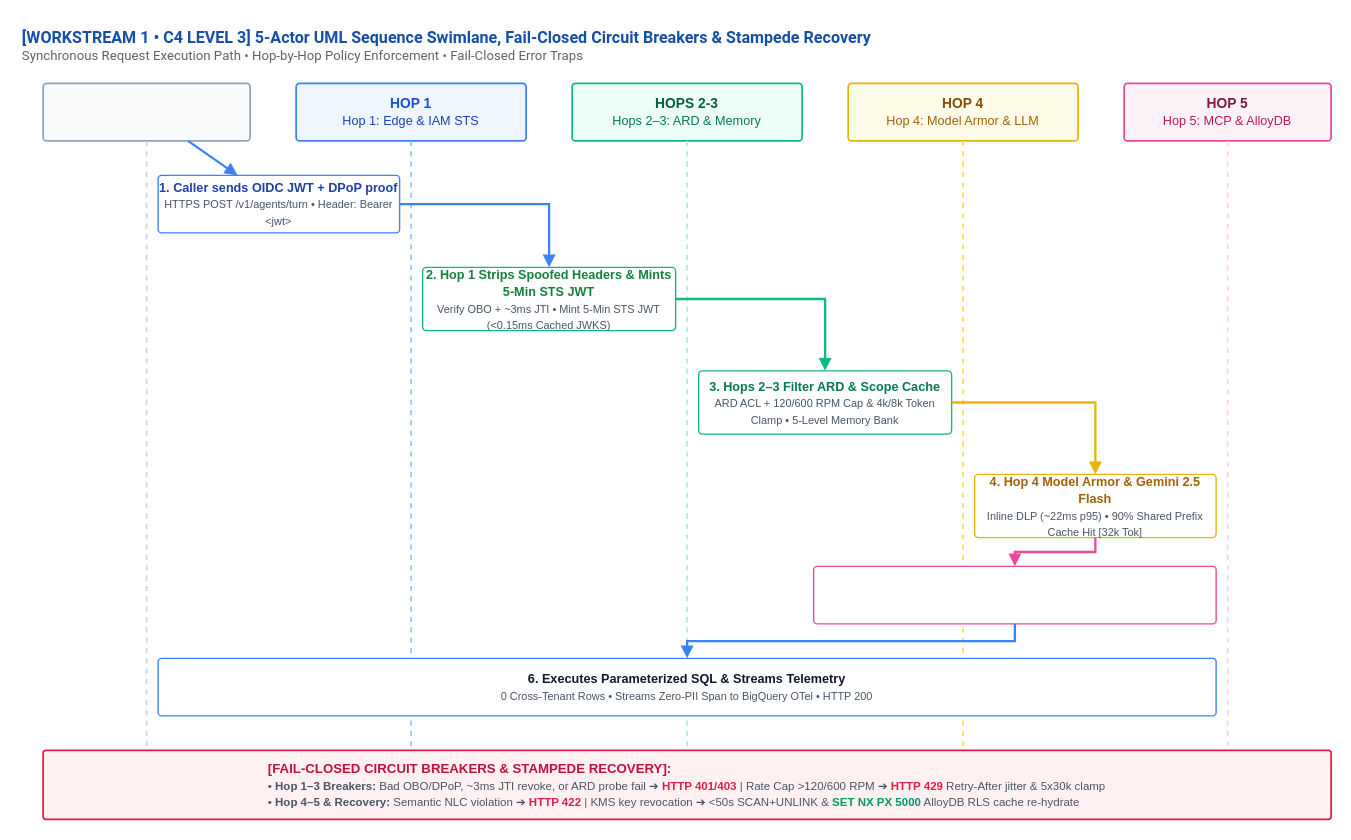
The diagram is 1351 pixels wide and 840 high, and some of its shapes have lost their labels. The centre of each missing label's shape, as x and y in pixels:
"5. Hop 5 Binds AlloyDB RLS SET LOCAL app.current_tenant_id • Vaults per-user 3LO" goes at [1014,594].
"ACTOR 1 Tenant Caller" goes at [146,111].
